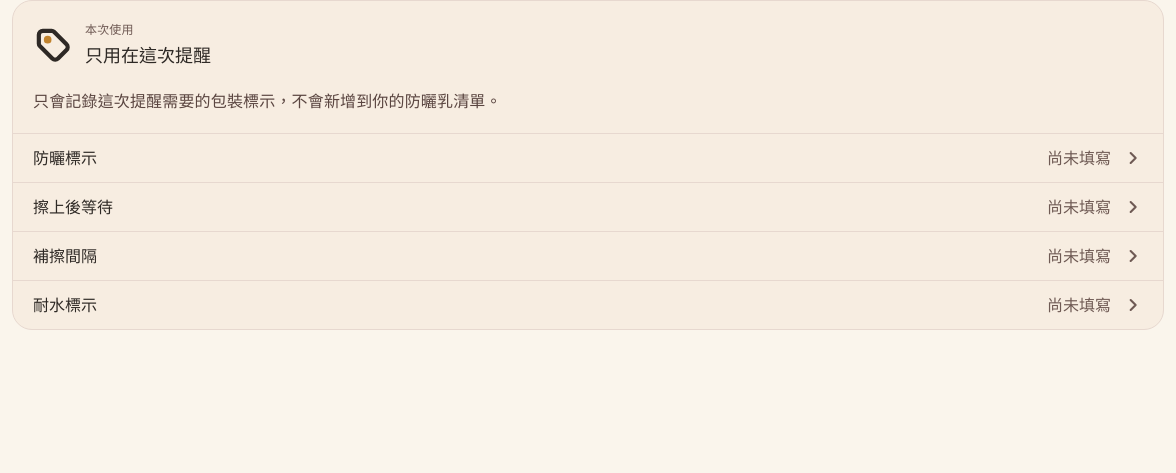
Scenario: 四題各佔一列 › 回答之後那一列改寫實際答案
The width and height of the screenshot is (1176, 473).
Step 1. Click the button with class "label-question__row" showing "防曬標示 尚未填寫" → (65, 158), box [13, 134, 1163, 182]
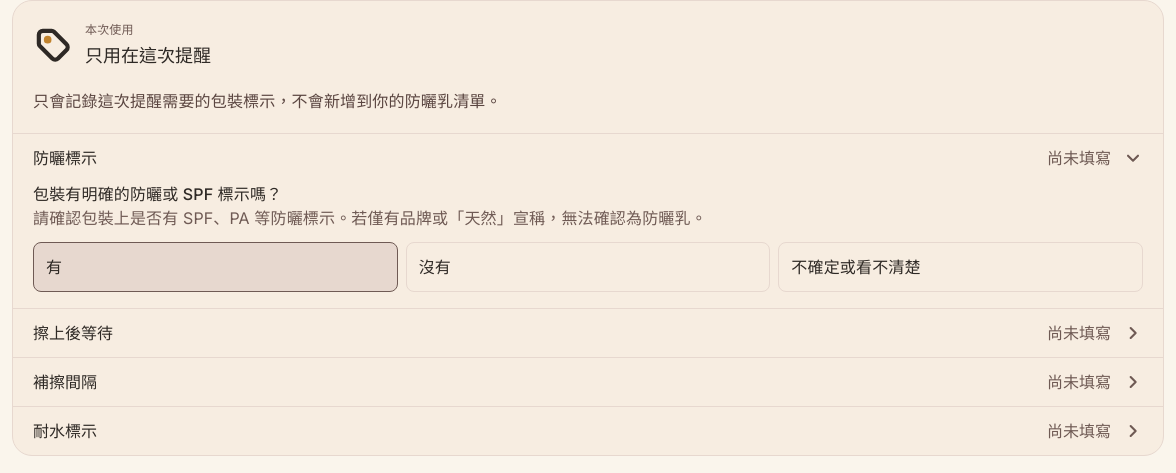
Step 2. Click the radio button labelled "沒有" → (435, 267), box [406, 242, 770, 292]
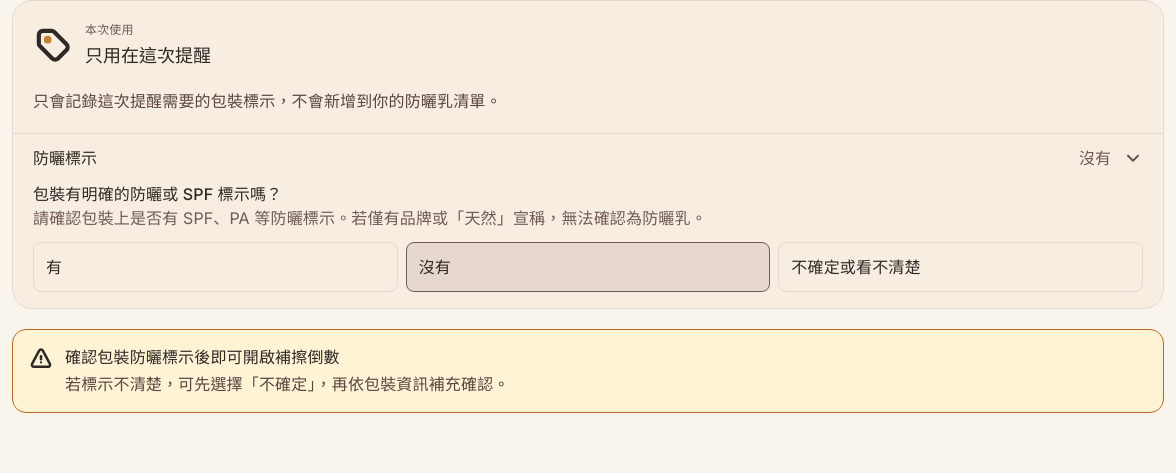
Expected: the button with class "label-question__row" shows "沒有", [13, 134, 1163, 182]
Expected: the button with class "label-question__row" no longer shows "尚未填寫"
